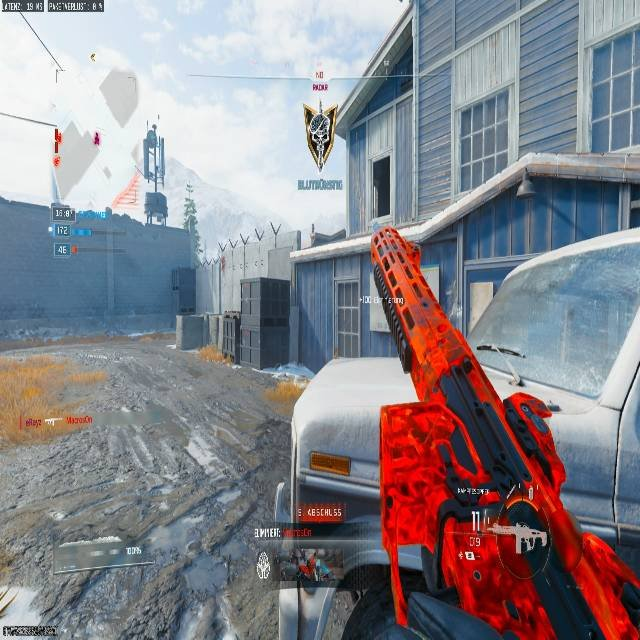player: (302, 93, 337, 169)
